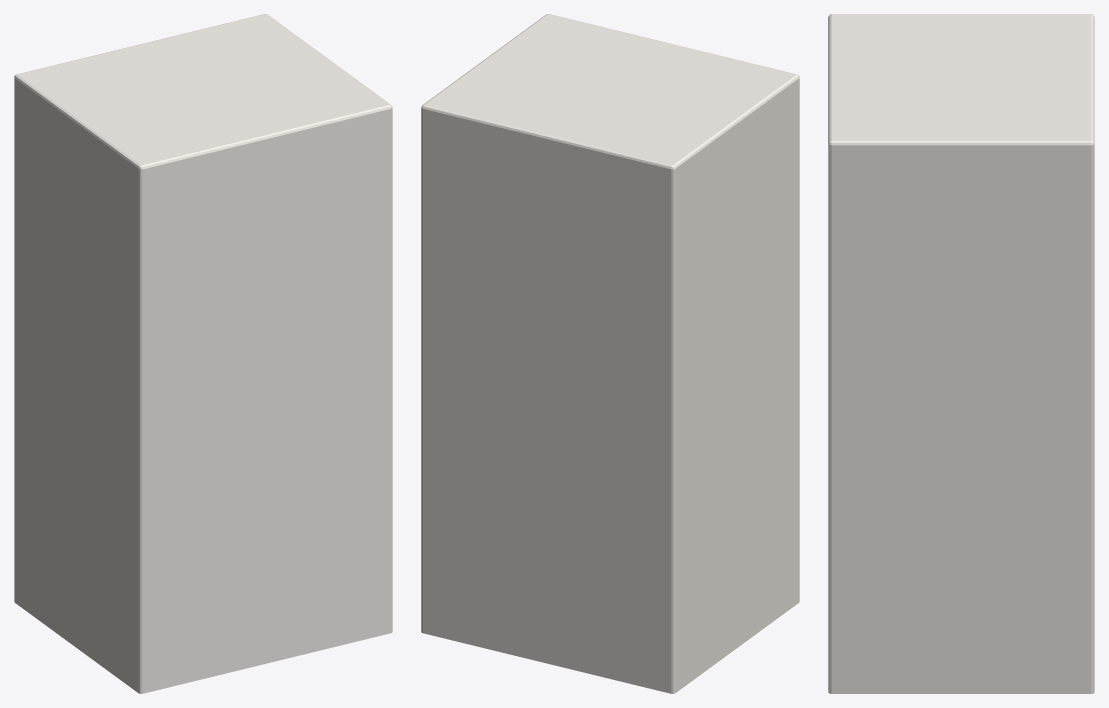
The model's file is Aur_DisplayStand_med.gltf.
3 renders of one model, left to right at view 1: azimuth 30°, elevation 25°; view 2: azimuth 150°, elevation 25°; view 3: azimuth 270°, elevation 25°, orthographic. The views are drawn at different scales.
Visible parts, largest first — view 1: Aur_DisplayStand_med; view 2: Aur_DisplayStand_med; view 3: Aur_DisplayStand_med.
Part boxes in pixels (box(x1,y1,x2,y2)): Aur_DisplayStand_med: box(14, 14, 392, 693); Aur_DisplayStand_med: box(421, 14, 799, 693); Aur_DisplayStand_med: box(828, 14, 1094, 693).
Size of what is drawn, in the model's own units: 0.3555 by 0.7055 by 0.3085.
1 material, 1 textured.
